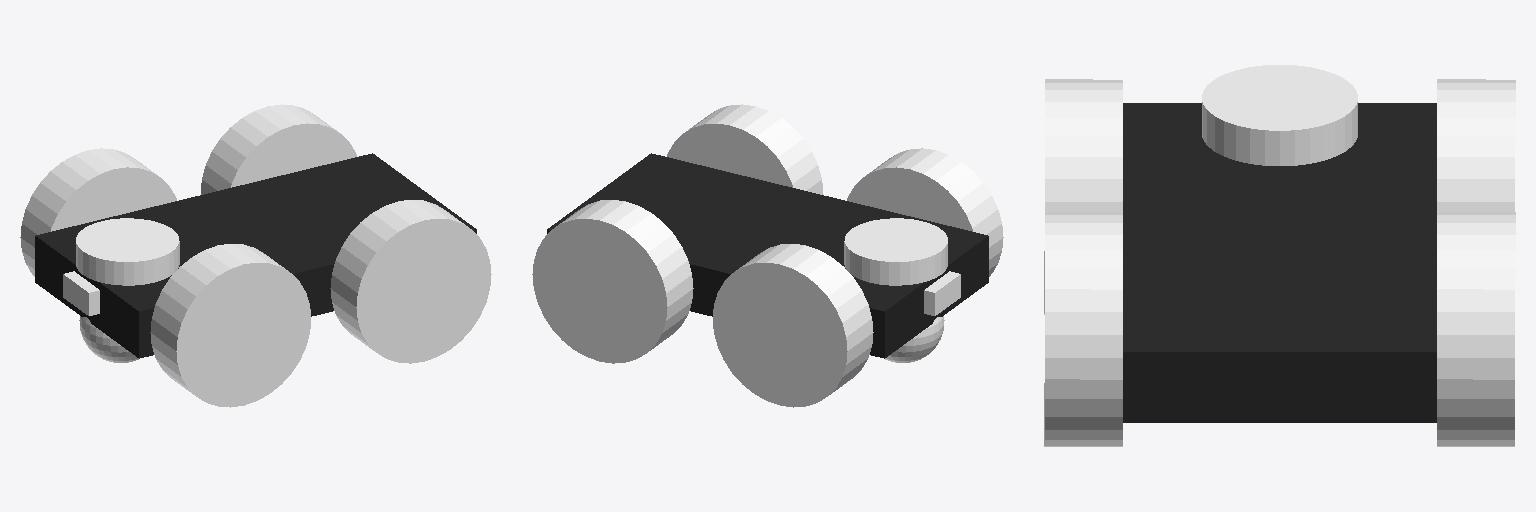
robot.urdf — three_wheeled_robot:
<?xml version="1.0" ?> 
 

<robot name = "three_wheeled_robot"> 
 

    <link name="base"> 
        <visual> 
        <geometry> 
            <box size="0.75 0.4 0.1"/> 
        </geometry> 
        <material name="gray"> 
            <color rgba=".2 .2 .2 1" /> 
        </material> 
        </visual> 
 

        <inertial> 
            <mass value="1" /> 
            <inertia ixx="0.01" ixy="0.0" ixz="0" iyy="0.01" iyz="0" izz="0.01" /> 
        </inertial> 
 

        <collision> 
        <geometry> 
            <box size="0.75 0.4 0.1"/> 
        </geometry> 
        </collision> 
 

    </link> 
 

    <link name="wheel_right_link"> 
        <inertial> 
                <mass value="2" /> 
                <inertia ixx="0.01" ixy="0.0" ixz="0" 
                iyy="0.01" iyz="0" izz="0.01" /> 

        </inertial> 
     

        <visual> 
            <geometry> 
              <cylinder radius="0.15" length="0.1"/> 
            </geometry> 
            <material name="white"> 
            <color rgba="1 1 1 1"/> 
            </material> 
        </visual> 
     

        <collision>         
            <geometry> 
              <cylinder radius="0.15" length="0.1"/> 
            </geometry> 
          <contact_coefficients mu="1" kp="1e+13" kd="1.0"/> 
        </collision> 
    </link> 
     

    <joint name="wheel_right_joint" type="continuous"> 
        <origin xyz="0.2 0.25 0.0" rpy="1.57 0.0 0.0"/> 
        <parent link="base"/> 
        <child link="wheel_right_link"/> 
        <axis xyz="0.0 0.0 1.0"/> 
    </joint> 
     

     

     

    <link name="wheel_left_link"> 
        <inertial> 
            <mass value="2" /> 
            <inertia ixx="0.01" ixy="0.0" ixz="0" 
                iyy="0.01" iyz="0" izz="0.01" /> 

        </inertial> 
     

        <visual>           
          <geometry> 
              <cylinder radius="0.15" length="0.1"/> 
          </geometry> 
          <material name="white"> 
            <color rgba="1 1 1 1"/> 
          </material> 
        </visual> 
     

        <collision> 
          <geometry> 
              <cylinder radius="0.15" length="0.1"/> 
          </geometry> 
          <contact_coefficients mu="1" kp="1e+13" kd="1.0"/> 
        </collision> 
    </link> 
     

    <joint name="wheel_left_joint" type="continuous"> 
        <origin xyz="0.2 -0.25 0.0" rpy="1.57 0.0 0.0"/> 
        <parent link="base"/> 
        <child link="wheel_left_link"/> 
        <axis xyz="0.0 0.0 1.0"/>     
    </joint> 
     
    <link name="wheel_right_upper_link"> 
      <inertial> 
              <mass value="2" /> 
              <inertia ixx="0.01" ixy="0.0" ixz="0" 
              iyy="0.01" iyz="0" izz="0.01" /> 

      </inertial> 
   

      <visual> 
          <geometry> 
            <cylinder radius="0.15" length="0.1"/> 
          </geometry> 
          <material name="white"> 
          <color rgba="1 1 1 1"/> 
          </material> 
      </visual> 
   

      <collision>         
          <geometry> 
            <cylinder radius="0.15" length="0.1"/> 
          </geometry> 
        <contact_coefficients mu="1" kp="1e+13" kd="1.0"/> 
      </collision> 
  </link> 
   

  <joint name="wheel_right_upper_joint" type="continuous"> 
      <origin xyz="-0.2 0.25 0.0" rpy="1.57 0.0 0.0"/> 
      <parent link="base"/> 
      <child link="wheel_right_upper_link"/> 
      <axis xyz="0.0 0.0 1.0"/> 
  </joint> 
   

   

   

  <link name="wheel_left_upper_link"> 
      <inertial> 
          <mass value="2" /> 
          <inertia ixx="0.01" ixy="0.0" ixz="0" 
              iyy="0.01" iyz="0" izz="0.01" /> 

      </inertial> 
   

      <visual>           
        <geometry> 
            <cylinder radius="0.15" length="0.1"/> 
        </geometry> 
        <material name="white"> 
          <color rgba="1 1 1 1"/> 
        </material> 
      </visual> 
   

      <collision> 
        <geometry> 
            <cylinder radius="0.15" length="0.1"/> 
        </geometry> 
        <contact_coefficients mu="1" kp="1e+13" kd="1.0"/> 
      </collision> 
  </link> 
   

  <joint name="wheel_left_upper_joint" type="continuous"> 
      <origin xyz="-0.2 -0.25 0.0" rpy="1.57 0.0 0.0"/> 
      <parent link="base"/> 
      <child link="wheel_left_upper_link"/> 
      <axis xyz="0.0 0.0 1.0"/>     
  </joint> 
     

     

    <link name="caster"> 
        <inertial> 
                <mass value="1" /> 
                <inertia ixx="0.01" ixy="0.0" ixz="0" 
                iyy="0.01" iyz="0" izz="0.01" /> 

        </inertial> 
     

        <visual>         
          <geometry> 
            <sphere radius=".08" /> 
          </geometry> 
          <material name="white" /> 
        </visual> 
     

        <collision> 
          <origin/> 
          <geometry> 
            <sphere radius=".08" /> 
          </geometry> 
        </collision> 
    </link> 
     

    <joint name="caster_joint" type="continuous"> 
        <origin xyz="-0.3 0.0 -0.07" rpy="0.0 0.0 0.0"/> 
        <axis xyz="0 0 1" /> 
        <parent link="base"/> 
        <child link="caster"/> 
    </joint> 
      

    <link name="camera"> 
        <inertial> 
                <mass value="0.1" /> 
                <inertia ixx="0.01" ixy="0.0" ixz="0" 
                iyy="0.01" iyz="0" izz="0.01" /> 

        </inertial> 
     

        <visual>           
          <geometry> 
            <box size="0.1 0.1 0.05"/> 
          </geometry> 
          <material name="white"> 
            <color rgba="1 1 1 1"/> 
          </material> 
        </visual> 
 

        <collision> 
          <geometry> 
              <box size="0.1 0.1 0.05"/> 
          </geometry> 
        </collision> 
    </link> 
     

    <joint name="camera_joint" type="fixed"> 
        <origin xyz="-0.35 0 0.01" rpy="0 0.0 3.14"/> 
        <parent link="base"/> 
        <child link="camera"/> 
        <axis xyz="0.0 0.0 1.0"/>     
    </joint> 
     

    <link name="lidar"> 
        <inertial> 
                <mass value="0.5" /> 
                <inertia ixx="0.01" ixy="0.0" ixz="0" 
                iyy="0.01" iyz="0" izz="0.01" /> 

        </inertial> 
     

        <visual>           
          <geometry> 
            <cylinder radius="0.1" length="0.05"/> 
          </geometry> 
          <material name="white"> 
            <color rgba="1 1 1 1"/> 
          </material> 
        </visual> 
     

        <collision> 
          <geometry> 
              <box size="0.1 0.1 0.1"/> 
          </geometry> 
        </collision> 
    </link> 
     

    <joint name="lidar_joint" type="fixed"> 
        <origin xyz="-0.285 0 0.075" rpy="0 0.0 1.57"/> 
        <parent link="base"/> 
        <child link="lidar"/> 
        <axis xyz="0.0 0.0 1.0"/> 
     

    </joint> 
 

    <!--http://wiki.ros.org/simulator_gazebo/Tutorials/ListOfMaterials--> 
    <gazebo reference="base"> 
        <material>Gazebo/WhiteGlow</material> 
    </gazebo> 
    <gazebo reference="wheel_left_link"> 
        <material>Gazebo/SkyBlue</material> 
    </gazebo> 
    <gazebo reference="wheel_right_link"> 
        <material>Gazebo/SkyBlue </material> 
    </gazebo> 
    <gazebo reference="caster"> 
        <material>Gazebo/Grey</material> 
    </gazebo> 
    <gazebo reference="lidar"> 
        <material>Gazebo/Blue</material> 
    </gazebo> 
    <gazebo reference="camera"> 
        <material>Gazebo/Red</material> 
    </gazebo> 
     

     

   

    <!-- differential robot--> 
    <gazebo> 
        <plugin filename="libgazebo_ros_diff_drive.so" name="gazebo_base_controller"> 
          <odometry_frame>odom</odometry_frame> 
          <commandTopic>cmd_vel</commandTopic> 
          <publish_odom>true</publish_odom> 
          <publish_odom_tf>true</publish_odom_tf> 
          <update_rate>15.0</update_rate> 
     

          <left_joint>wheel_left_joint</left_joint> 
          <right_joint>wheel_right_joint</right_joint> 
           

          <wheel_separation>0.5</wheel_separation> 
          <wheel_diameter>0.3</wheel_diameter> 
          <max_wheel_acceleration>0.7</max_wheel_acceleration> 
          <max_wheel_torque>8</max_wheel_torque> 
          <robotBaseFrame>base</robotBaseFrame> 
        </plugin> 
    </gazebo> 
     

    <!-- camera plugin--> 
    <gazebo reference="camera"> 
      <sensor type="camera" name="camera1"> 
        <visualize>true</visualize> 
        <update_rate>30.0</update_rate> 
        <camera name="head"> 
          <horizontal_fov>1.3962634</horizontal_fov> 
          <image> 
            <width>800</width> 
            <height>800</height> 
            <format>R8G8B8</format> 
          </image> 
          <clip> 
            <near>0.02</near> 
            <far>300</far> 
          </clip> 
        </camera> 
        <plugin name="camera_controller" filename="libgazebo_ros_camera.so"> 
          <alwaysOn>true</alwaysOn> 
          <updateRate>60.0</updateRate> 
          <cameraName>/camera1</cameraName> 
          <imageTopicName>image_raw</imageTopicName> 
          <cameraInfoTopicName>info_camera</cameraInfoTopicName> 
          <frameName>camera</frameName> 
          <hackBaseline>0.07</hackBaseline> 
        </plugin> 
      </sensor> 
    </gazebo> 
     

    <!--lidar plugin--> 
    <gazebo reference="lidar"> 
      <sensor name="lidar" type="ray"> 
       <visualize>true</visualize> 
        <update_rate>12.0</update_rate> 
        <plugin filename="libgazebo_ros_ray_sensor.so" name="gazebo_lidar">     
        <output_type>sensor_msgs/LaserScan</output_type> 
        <frame_name>lidar</frame_name> 
        </plugin> 
        <ray> 
          <scan> 
            <horizontal> 
              <samples>360</samples> 
              <resolution>1</resolution> 
              <min_angle>0.00</min_angle> 
              <max_angle>3.14</max_angle> 
            </horizontal> 
          </scan> 
          <range> 
            <min>0.120</min> 
            <max>3.5</max> 
            <resolution>0.015</resolution> 
          </range> 
        </ray> 
      </sensor> 
    </gazebo> 
 

</robot> 
 

--- Render facts (derived) ---
Views: 3 orthographic renders of the robot side by side, from view 1: azimuth 30°, elevation 25°; view 2: azimuth 150°, elevation 25°; view 3: azimuth 270°, elevation 25°.
Model three_wheeled_robot with 8 links and 7 joints (5 continuous, 2 fixed), rooted at base, posed every joint at zero.
Visible links, largest first — view 1: base, wheel_left_link, wheel_left_upper_link, wheel_right_upper_link, wheel_right_link, lidar, caster, camera; view 2: base, wheel_right_link, wheel_right_upper_link, wheel_left_upper_link, wheel_left_link, lidar, caster, camera; view 3: base, wheel_right_link, wheel_left_link, lidar, wheel_right_upper_link, wheel_left_upper_link.
Link boxes in pixels (x1,y1,x2,y2): base: [35, 153, 476, 358]; wheel_left_link: [330, 200, 491, 363]; wheel_left_upper_link: [150, 244, 310, 407]; wheel_right_upper_link: [20, 148, 176, 276]; wheel_right_link: [201, 104, 356, 194]; lidar: [76, 218, 179, 285]; caster: [79, 316, 138, 362]; camera: [63, 271, 99, 315]; base: [547, 153, 988, 358]; wheel_right_link: [532, 200, 693, 363]; wheel_right_upper_link: [713, 244, 873, 407]; wheel_left_upper_link: [847, 148, 1003, 276]; wheel_left_link: [667, 104, 822, 194]; lidar: [844, 218, 947, 285]; caster: [885, 316, 944, 362]; camera: [924, 271, 960, 315]; base: [1123, 103, 1436, 422]; wheel_right_link: [1437, 212, 1515, 446]; wheel_left_link: [1044, 212, 1122, 446]; lidar: [1202, 65, 1357, 165]; wheel_right_upper_link: [1437, 79, 1515, 211]; wheel_left_upper_link: [1044, 79, 1122, 314].
Size in the robot's own frame: 0.7751 by 0.6002 by 0.3001 metres.
Geometry: primitives only (box / cylinder / sphere), no mesh files.
